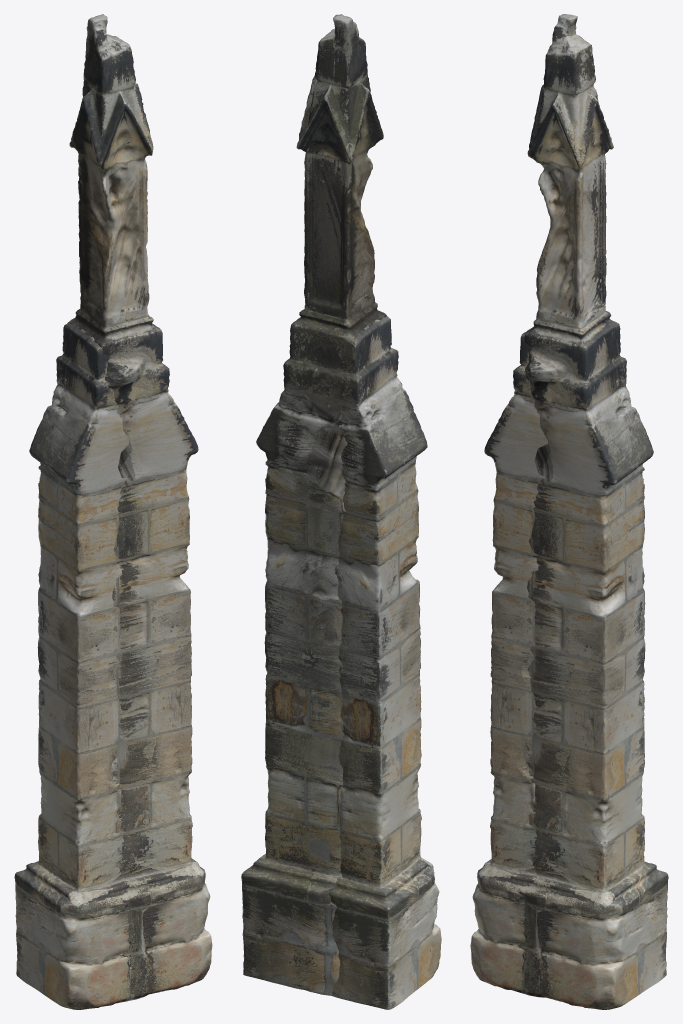
Rendered from sm_Chapel_01_07.fbx.
3 views of the same model, side by side, from view 1: azimuth 30°, elevation 25°; view 2: azimuth 150°, elevation 25°; view 3: azimuth 330°, elevation 25° (orthographic).
Visible parts, largest first — view 1: sm_Chapel_01_07_LOD0; view 2: sm_Chapel_01_07_LOD0; view 3: sm_Chapel_01_07_LOD0.
Boxes of the visible parts, box(x1,y1,x2,y2) form: sm_Chapel_01_07_LOD0: box(14, 14, 212, 1009); sm_Chapel_01_07_LOD0: box(241, 14, 441, 1009); sm_Chapel_01_07_LOD0: box(470, 14, 668, 1009).
Bounding box in the file's own units: 90.2 × 61.67 × 555.
